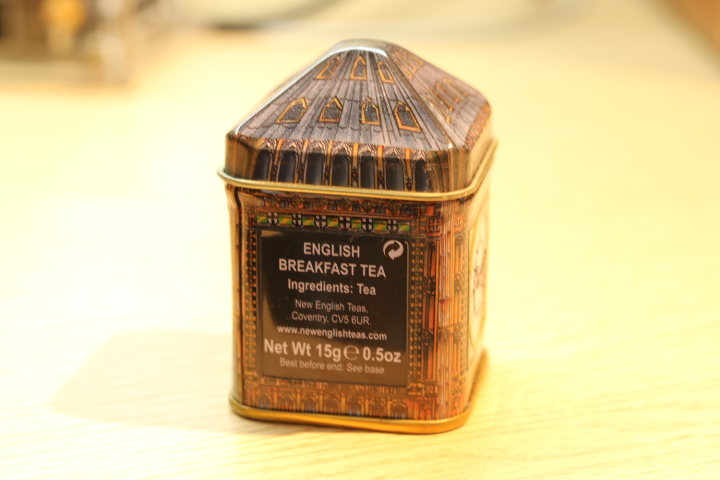Big Ben: (210, 31, 531, 452)
